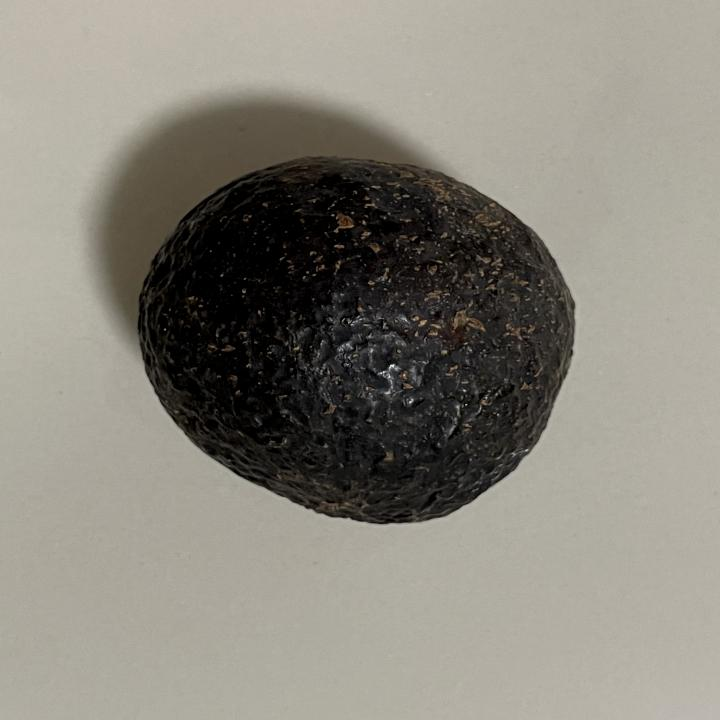Level2: (129, 151, 584, 533)
